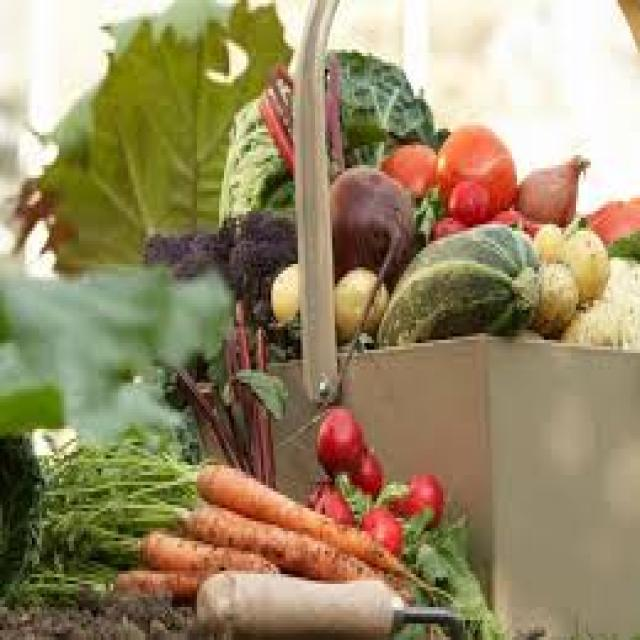Organik: (2, 6, 640, 640), (8, 3, 640, 407), (6, 402, 544, 640)
